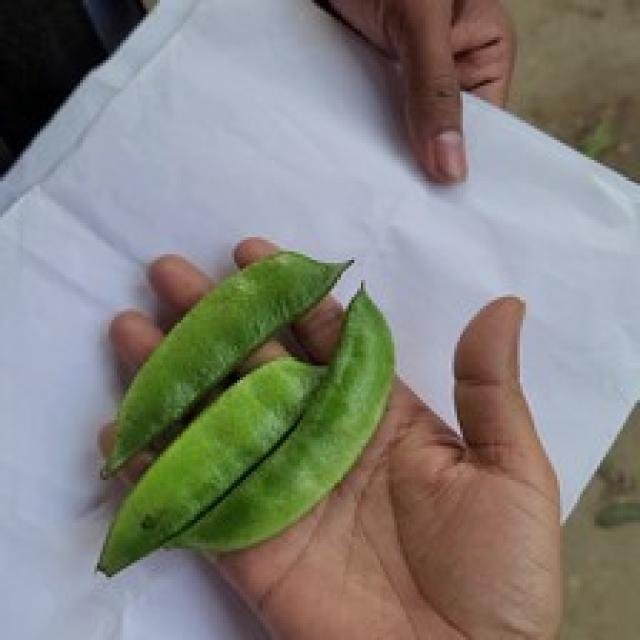Bean: (92, 246, 394, 577)
